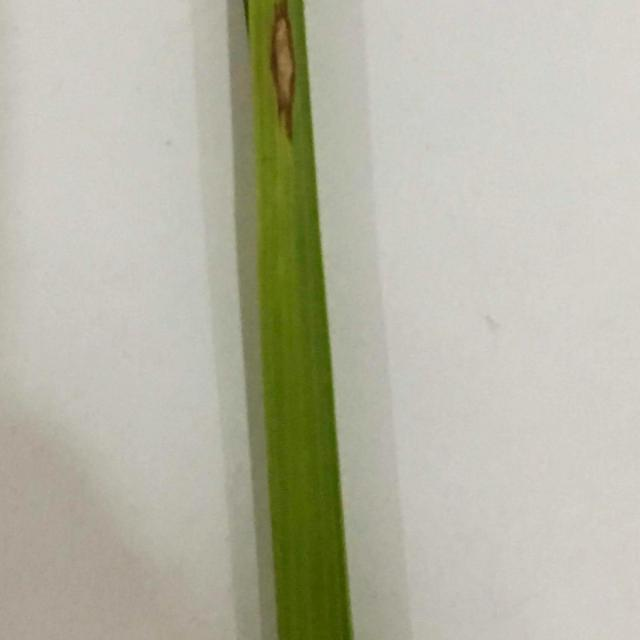Leaf_Blast: (248, 0, 316, 149)
